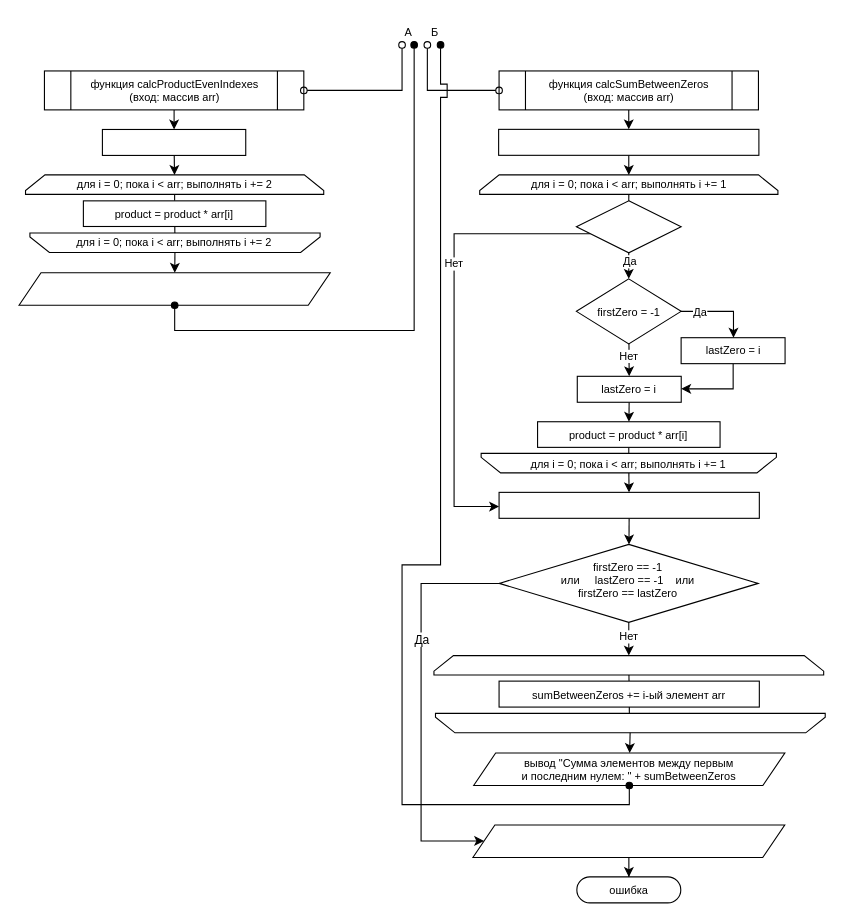
The diagram is 845 pixels wide and 923 high, and some of its shapes have lost their labels. Here are the shapes that lost their labels. From the top down, the centre of each, then its label:
pixel 173 141: объявить product = 1
pixel 628 141: объявить firstZero = -1, lastZero = -1
pixel 628 226: первый элемент arr
pixel 174 288: вывод "Произведение элементов с четными номерами: " + product
pixel 628 504: объявить sumBetweenZeros = 0
pixel 628 664: для i = firstZero + 1 ; пока i < lastZero ; выполнять i += 1
pixel 629 722: для i = firstZero + 1 ; пока i < lastZero; выполнять i += 1
pixel 628 840: вывод "Ошибка. В массиве недостаточно нулевых элементов для вычисления суммы. "
